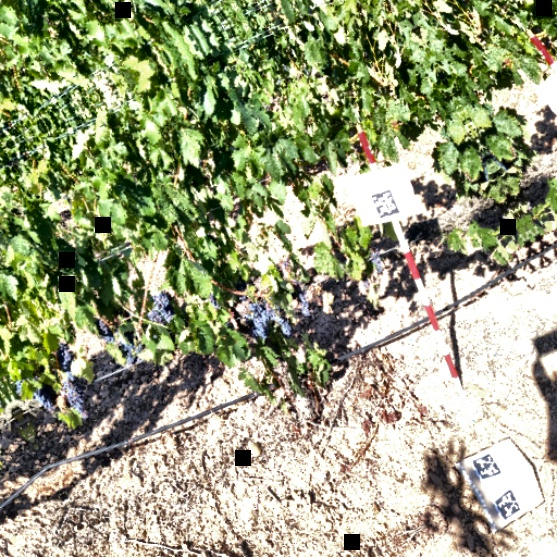QR: (468, 448, 505, 485), (368, 187, 401, 221)
